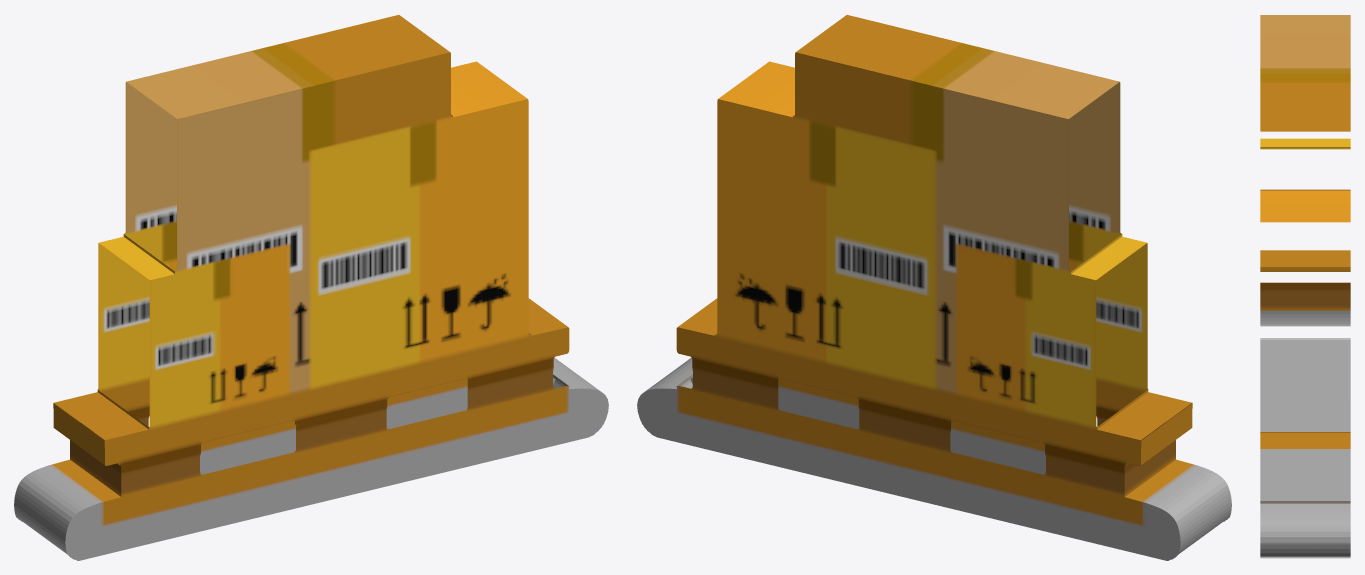
The model's file is boxes.FBX.
3 views of the same model, side by side, from view 1: azimuth 30°, elevation 25°; view 2: azimuth 150°, elevation 25°; view 3: azimuth 270°, elevation 25° (orthographic). The views are drawn at different scales.
Visible parts, largest first — view 1: boxes; view 2: boxes; view 3: boxes.
Boxes of the visible parts, <box> form: boxes: <box>14,15,608,560</box>; boxes: <box>637,15,1231,560</box>; boxes: <box>1260,15,1350,558</box>.
Bounding box in the file's own units: 45.02 × 33.16 × 7.36.
Materials: 1 (1 with a texture image).
